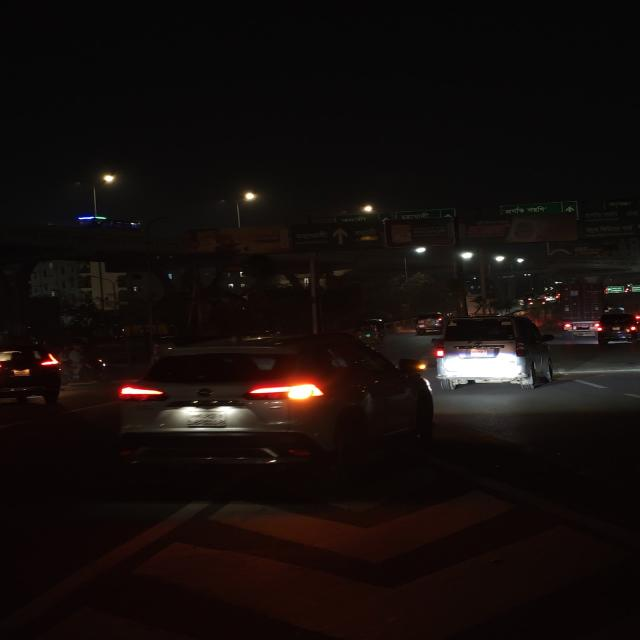car: (112, 332, 434, 486), (425, 313, 560, 393), (0, 339, 69, 407), (589, 310, 640, 346), (412, 313, 443, 335)
cng: (352, 318, 389, 344)
truck: (556, 280, 601, 340)
